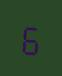six: (19, 19, 40, 56)
